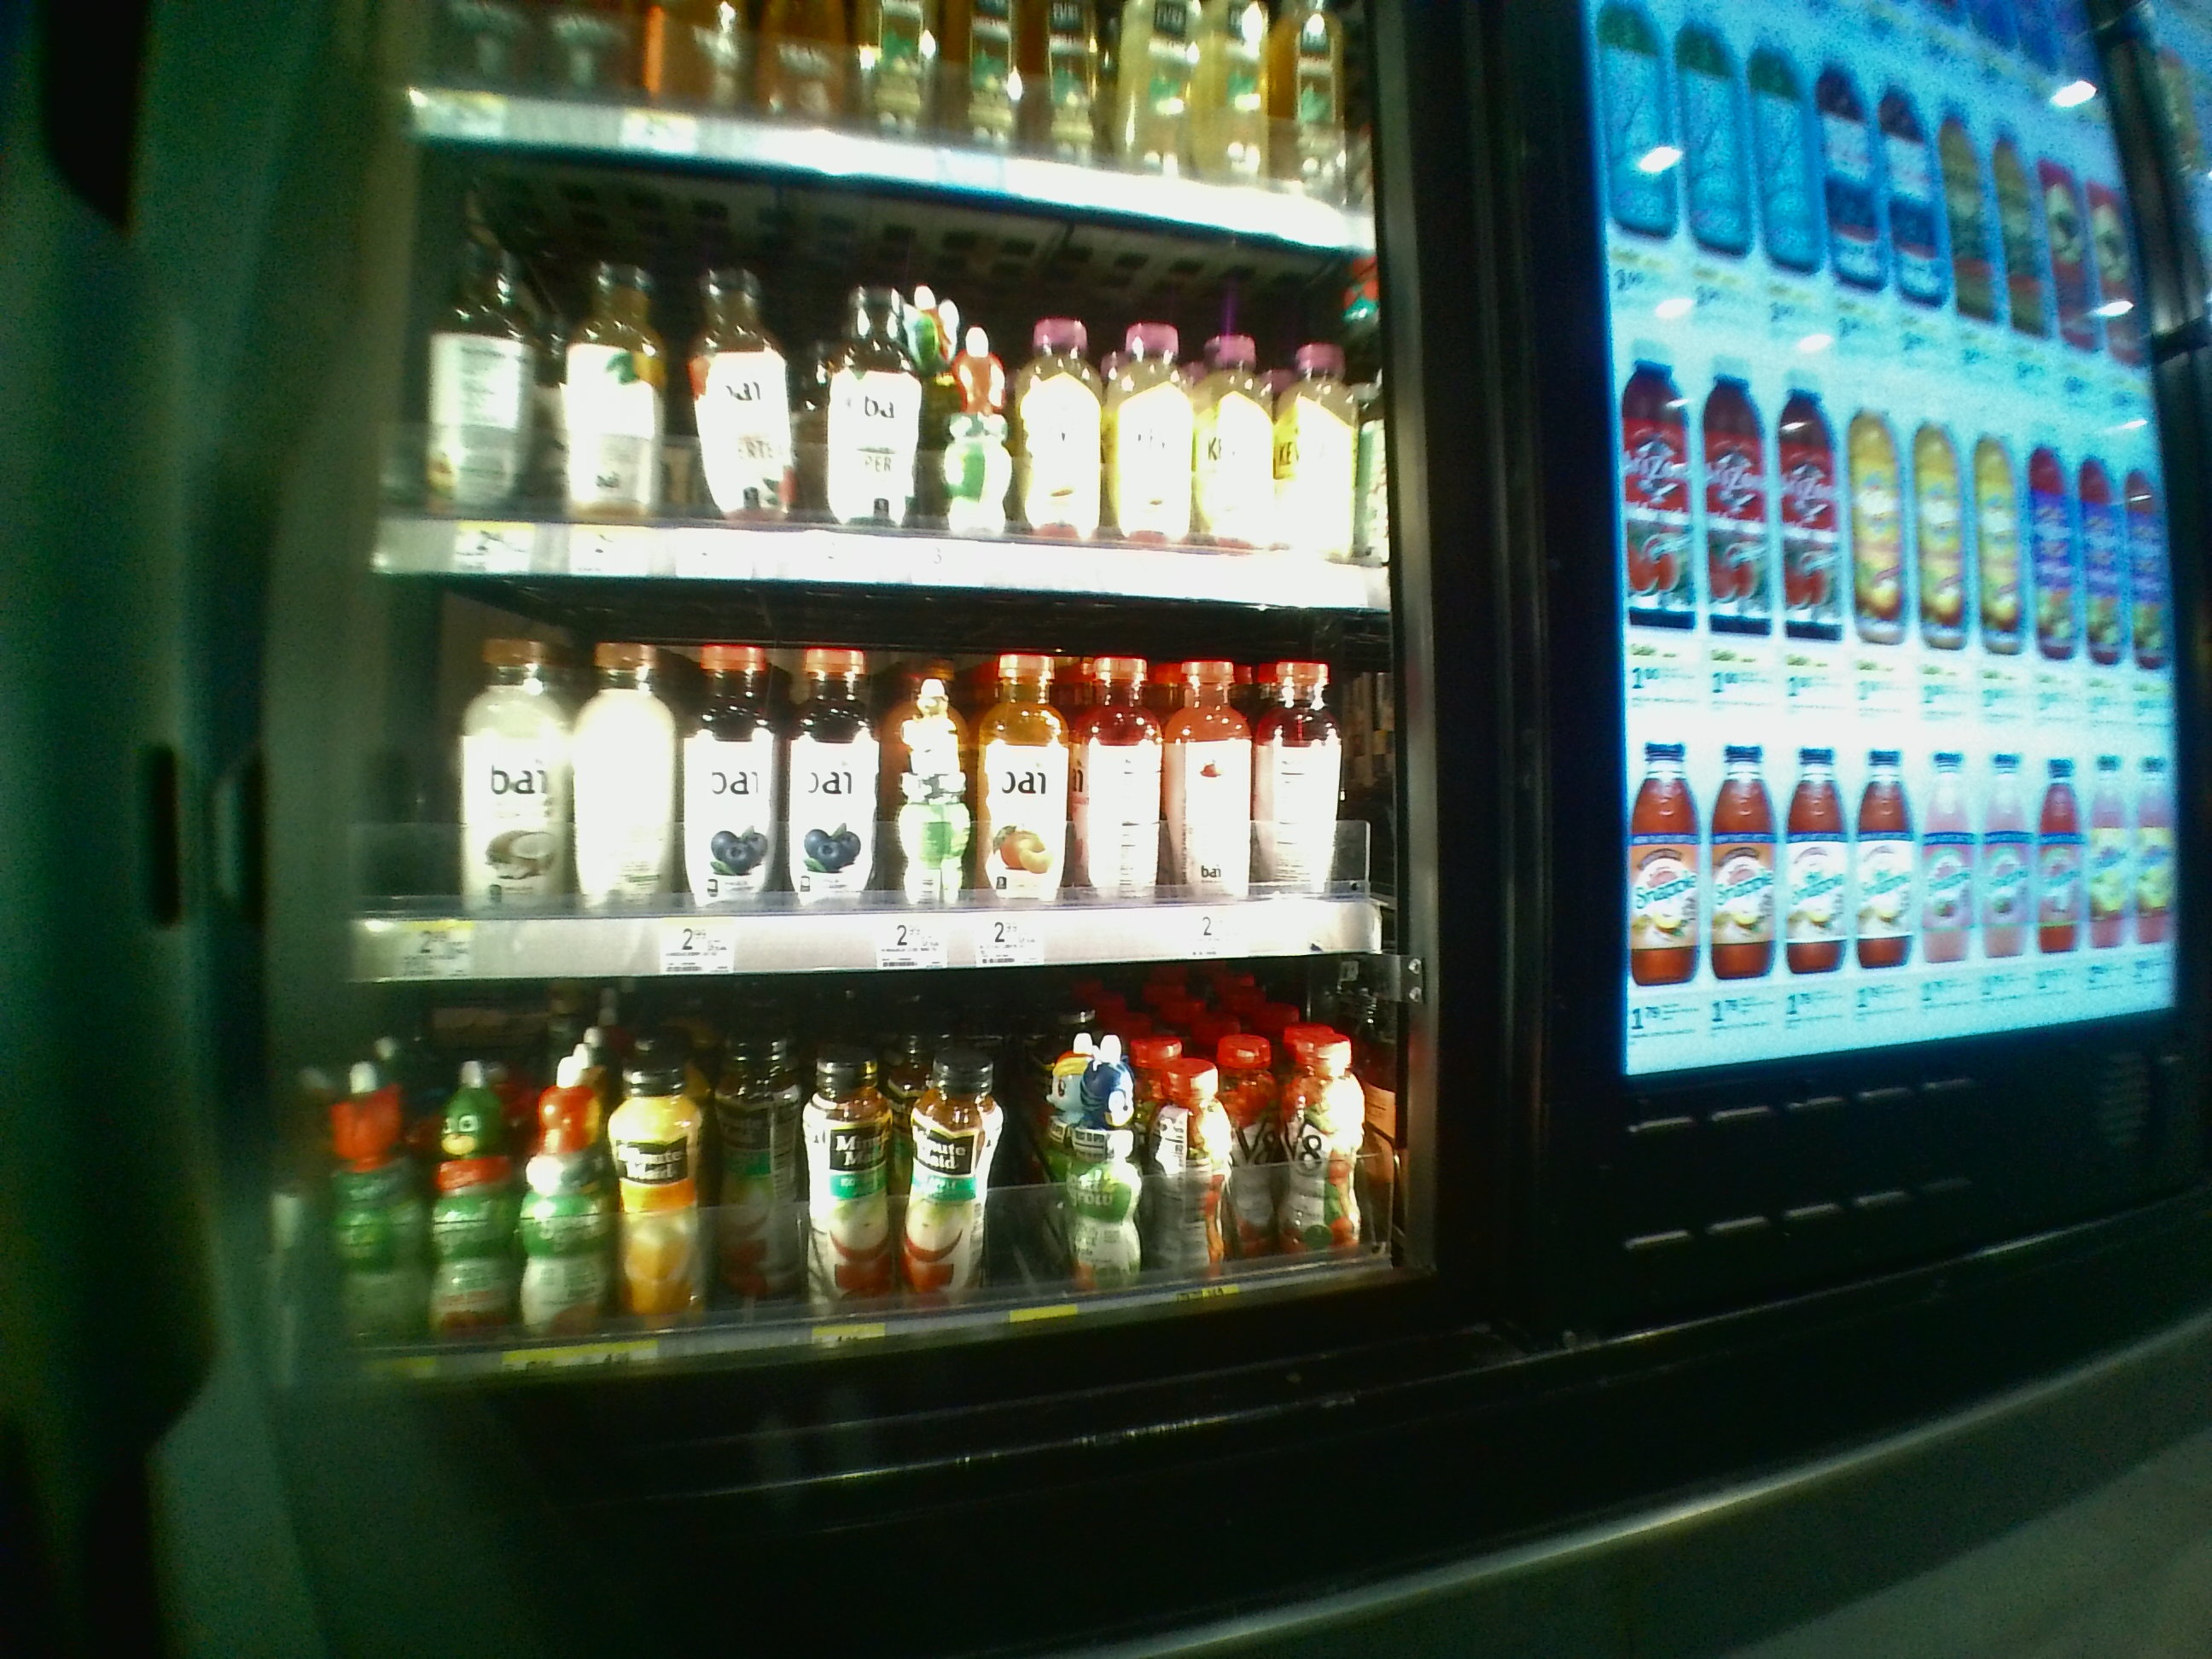shelf: (371, 129, 1388, 568), (336, 993, 1416, 1396), (350, 591, 1393, 974)
